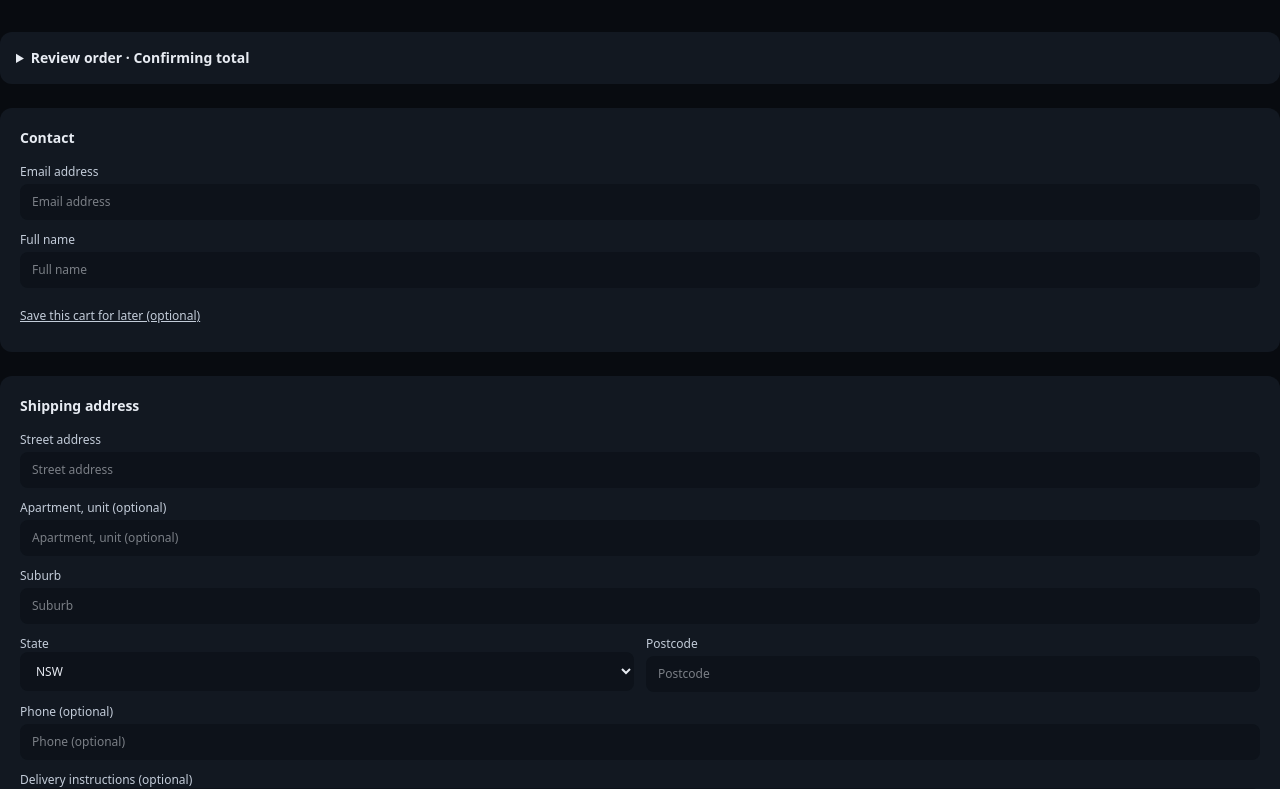
Scenario: requests cart mail only after an unchecked purpose choice and explicit button, never on email blur
Type "person@test.local" into the field labelled "Email address".
click(640, 202); type("person@test.local")  # box [20,184,1260,220]
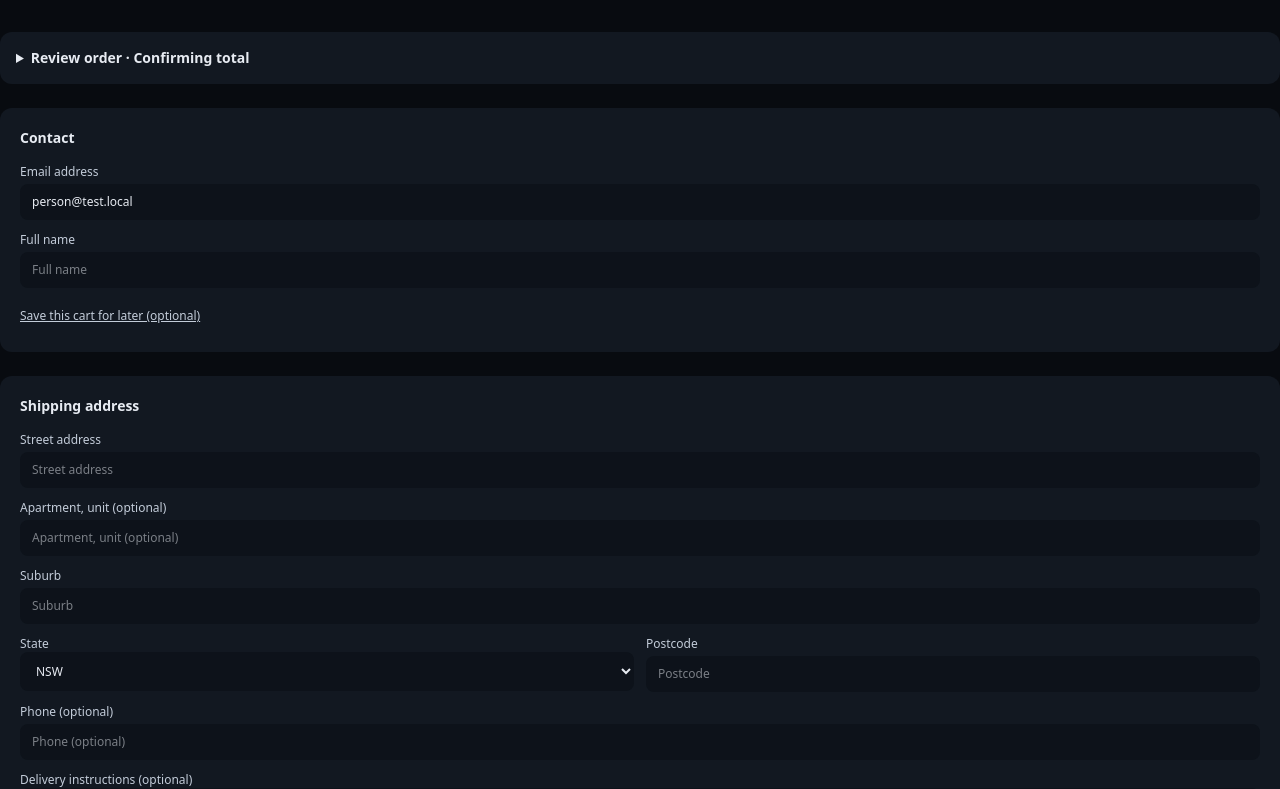
Click the button "Save this cart for later (optional)".
click(110, 316)  # box [20,300,200,332]
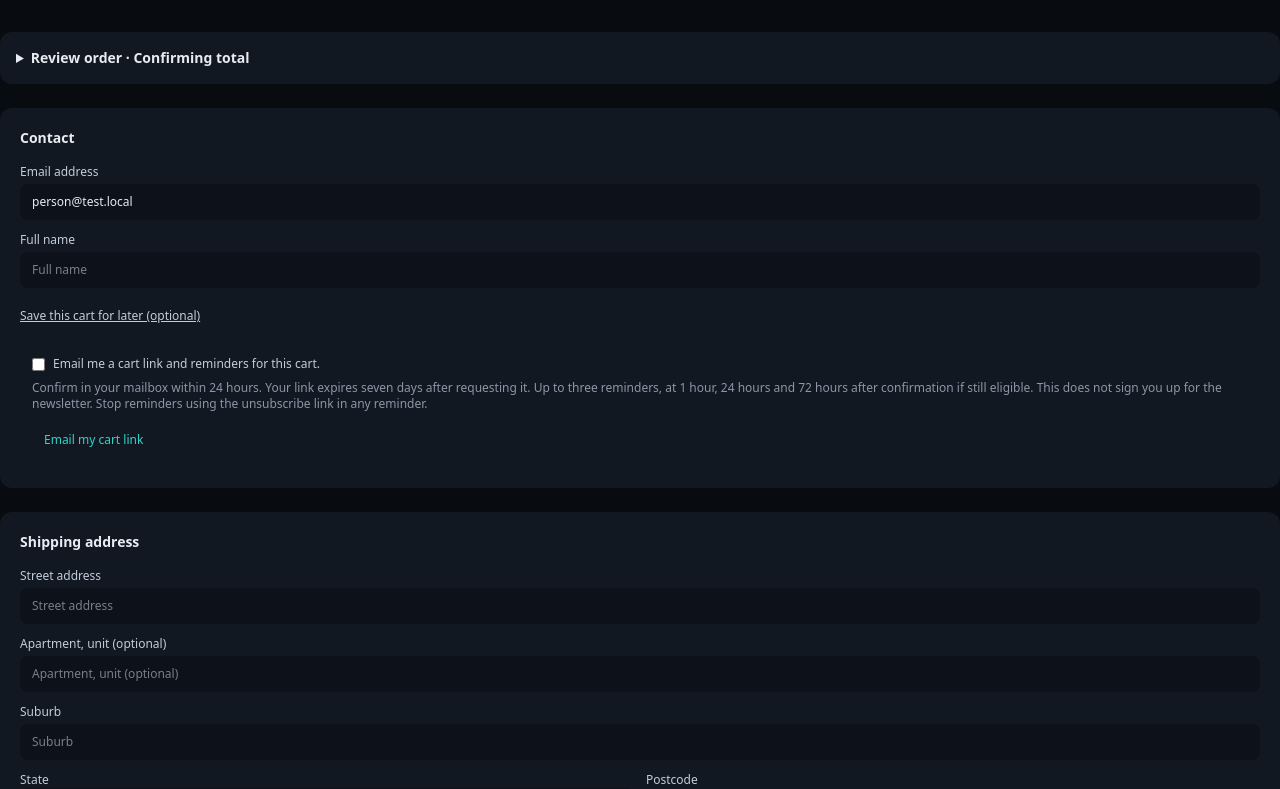
Expected: the checkbox labelled "Email me a cart link and reminders for this cart." is not checked
Expected: the button "Email my cart link" is disabled, [32,424,155,456]
Click the checkbox labelled "Email me a cart link and reminders for this cart.".
click(38, 364)  # box [32,358,45,371]
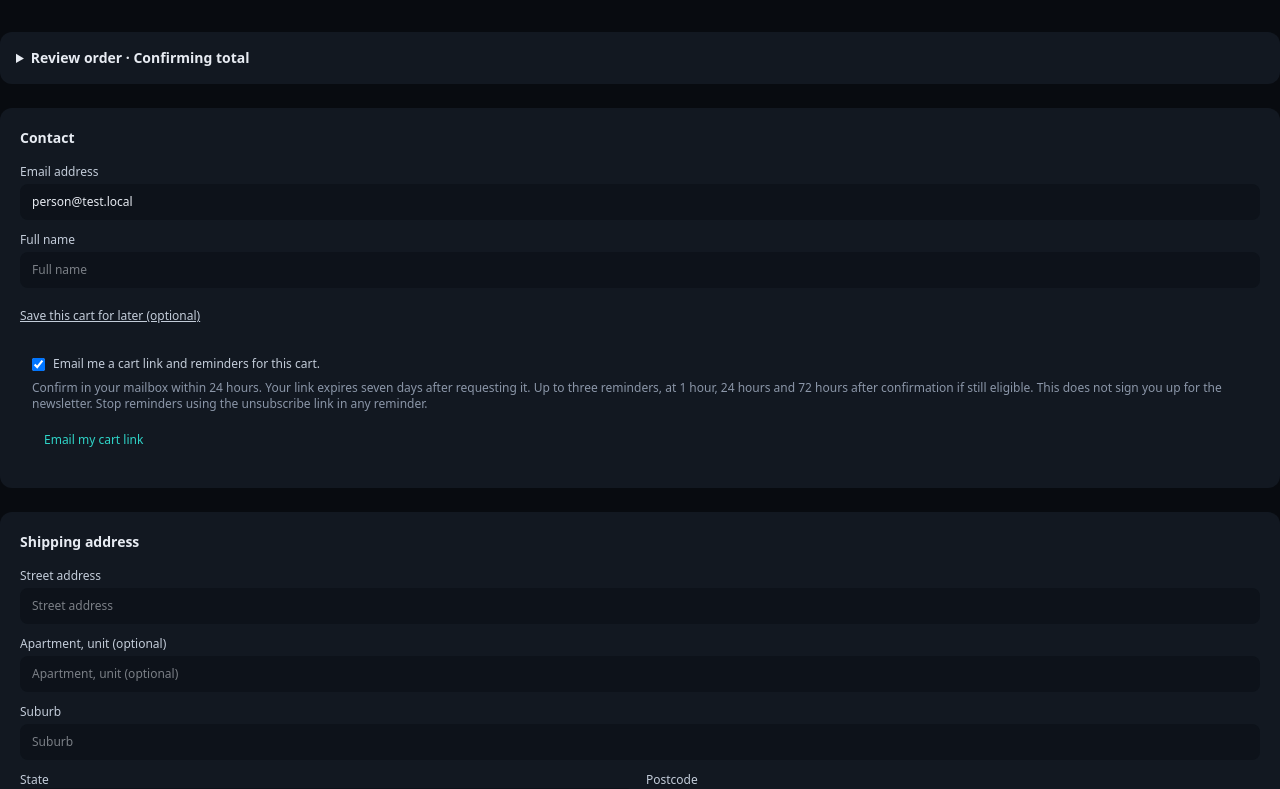
Click the button "Email my cart link".
click(94, 440)  # box [32,424,155,456]
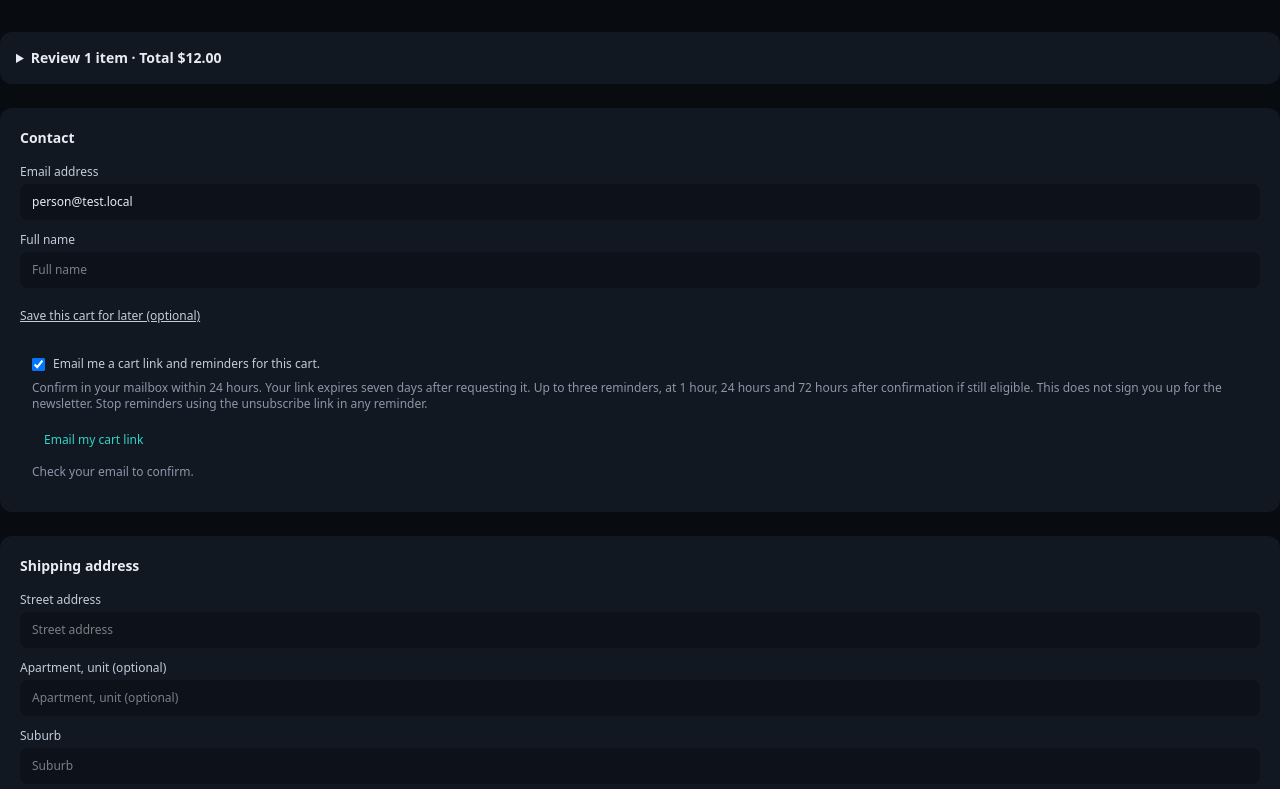
Expected: the text "Check your email to confirm." is shown, [32,463,194,480]
